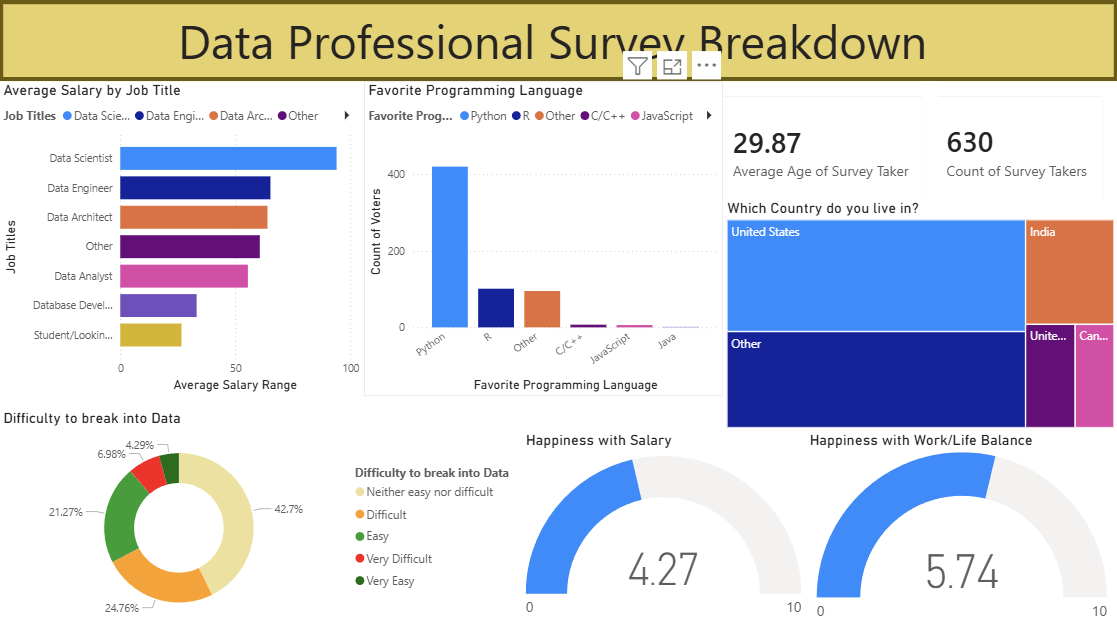

The dashboard page shown, as its layout file describes it:
{"tool":"powerbi","page":{"name":"Page 1","canvas":[1280,720],"ordinal":0},"visuals":[{"type":"textbox","box":[0,0,1280,92.5],"z":0},{"type":"cardVisual","fields":{"Data":["Count(Data Professional Survey.Unique ID)"]},"box":[1053.3,93.3,226.7,156.7],"z":1000},{"type":"cardVisual","fields":{"Data":["Avg(Data Professional Survey.Q10 - Current Age)"]},"box":[808.3,93.3,265,158.3],"z":2000},{"type":"barChart","title":"Average Salary by Job Title","fields":{"Category":["Data Professional Survey.Q1 - Which Title Best Fits your Current Role?.1"],"Y":["Avg(Data Professional Survey.Average Salary)"],"Series":["Data Professional Survey.Q1 - Which Title Best Fits your Current Role?.1"]},"box":[0,93.3,416.7,360],"z":3000},{"type":"columnChart","title":"Favorite Programming Language","fields":{"Category":["Data Professional Survey.Q5 - Favorite Programming Language.1"],"Y":["CountNonNull(Data Professional Survey.Unique ID)"],"Series":["Data Professional Survey.Q5 - Favorite Programming Language.1"]},"box":[416.7,93.3,410,360],"z":4000},{"type":"treemap","title":"Which Country do you live in?","fields":{"Values":["CountNonNull(Data Professional Survey.Q11 - Which Country do you live in?.1)"],"Group":["Data Professional Survey.Q11 - Which Country do you live in?.1"]},"box":[826.7,226.7,453.3,266.7],"z":5000},{"type":"gauge","title":"Happiness with Salary","fields":{"Y":["Avg(Data Professional Survey.Q6 - How Happy are you in your Current Position with the following? (Salary))"],"MinValue":["Min(Data Professional Survey.Q6 - How Happy are you in your Current Position with the following? (Salary))"],"MaxValue":["Max(Data Professional Survey.Q6 - How Happy are you in your Current Position with the following? (Salary))"]},"box":[596.7,493.3,325,226.7],"z":6000},{"type":"gauge","title":"Happiness with Work/Life Balance","fields":{"Y":["Avg(Data Professional Survey.Q6 - How Happy are you in your Current Position with the following? (Work/Life Balance))"],"MinValue":["Min(Data Professional Survey.Q6 - How Happy are you in your Current Position with the following? (Work/Life Balance))1"],"MaxValue":["Max(Data Professional Survey.Q6 - How Happy are you in your Current Position with the following? (Work/Life Balance))2"]},"box":[921.7,493.3,358.3,226.7],"z":7000},{"type":"donutChart","title":"Difficulty to break into Data","fields":{"Category":["Data Professional Survey.Q7 - How difficult was it for you to break into Data?"],"Y":["CountNonNull(Data Professional Survey.Q7 - How difficult was it for you to break into Data?)"]},"box":[0,466.7,596.7,253.3],"z":8000}]}

Visuals, with their boxes in screenshot pixels (x1, y1, x2, y2), scaled from the page's 1280x720 canvas onto the 1117x627 screenshot:
textbox: bbox=[0, 0, 1116, 81]
cardVisual - Count(Data Professional Survey.Unique ID): bbox=[919, 81, 1116, 218]
cardVisual - Avg(Data Professional Survey.Q10 - Current Age): bbox=[705, 81, 937, 219]
"Average Salary by Job Title" barChart: bbox=[0, 81, 364, 395]
"Favorite Programming Language" columnChart: bbox=[364, 81, 721, 395]
"Which Country do you live in?" treemap: bbox=[721, 197, 1116, 430]
"Happiness with Salary" gauge: bbox=[521, 430, 804, 626]
"Happiness with Work/Life Balance" gauge: bbox=[804, 430, 1116, 626]
"Difficulty to break into Data" donutChart: bbox=[0, 406, 521, 626]
